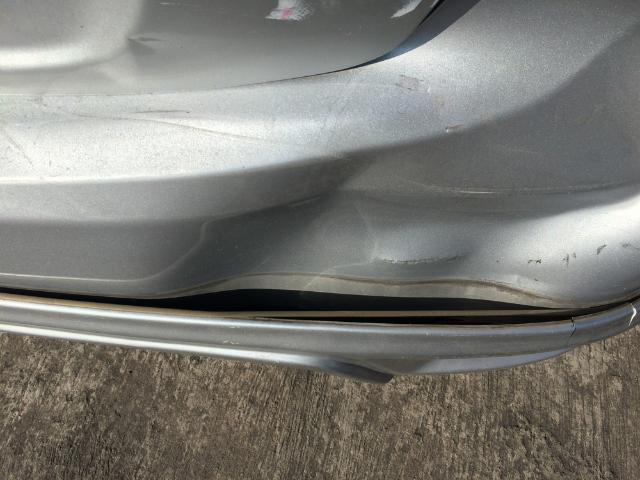crack: (564, 317, 576, 348)
dent: (175, 28, 640, 308)
